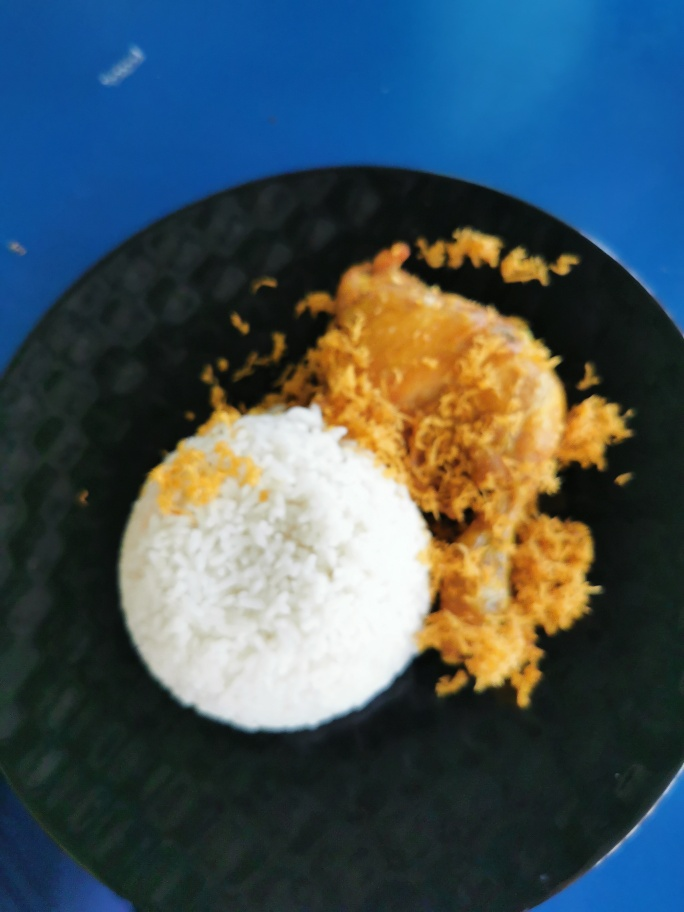ayam goreng: (303, 238, 617, 703)
nasi putih: (119, 402, 437, 728)
